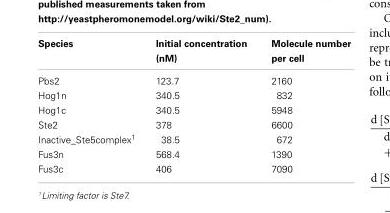table: (37, 37, 350, 174)
table column: (144, 37, 258, 174), (37, 37, 144, 174), (258, 37, 350, 174)
table column header: (37, 37, 350, 68)
table row: (37, 37, 350, 68), (37, 68, 350, 87), (37, 130, 350, 146), (37, 87, 350, 102), (37, 102, 350, 116), (37, 116, 350, 130), (37, 146, 350, 160), (37, 160, 350, 174)
